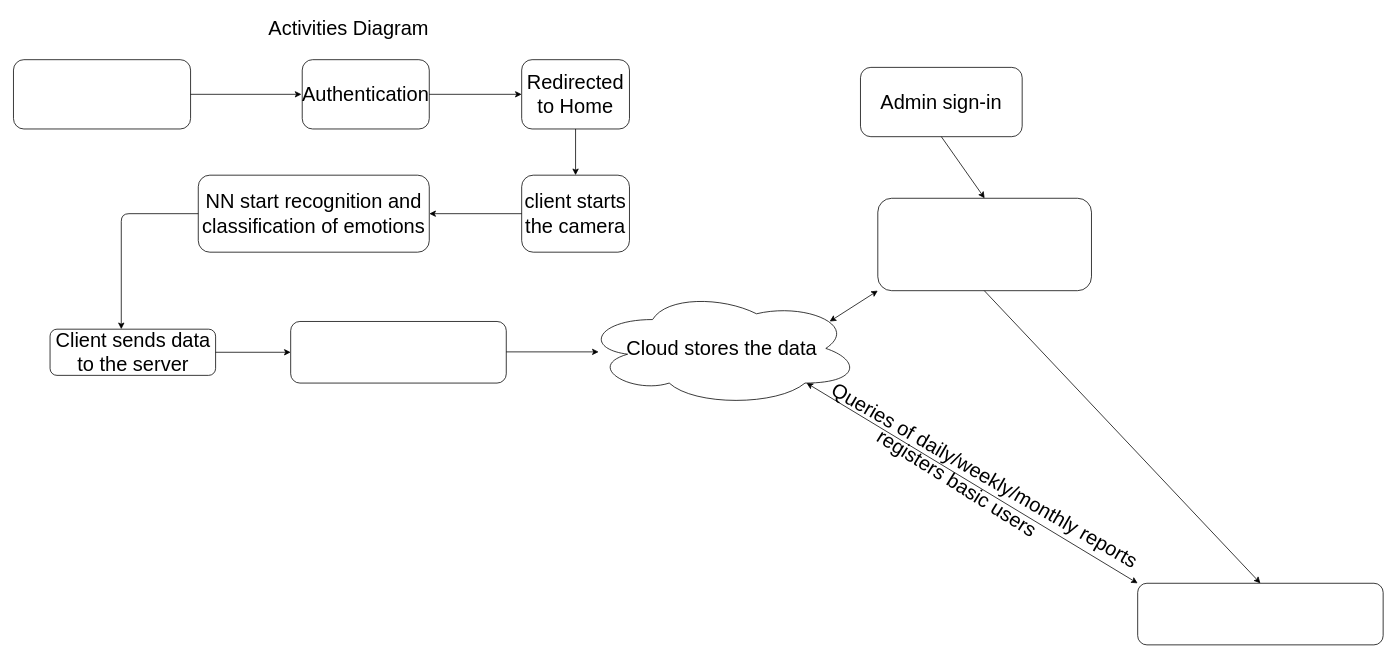
Some shapes in this 1397 by 658 pixel diagram are drawn without their labels. Here are the shapes that lost their labels. From the top down, the centre of each, then its label:
At [102,94]: "Basic user sign-in through facial recognition".
At [984,244]: "Authentication through database".
At [398,352]: "Server sends data to the cloud".
At [1260,614]: "Redirected to admin view".
